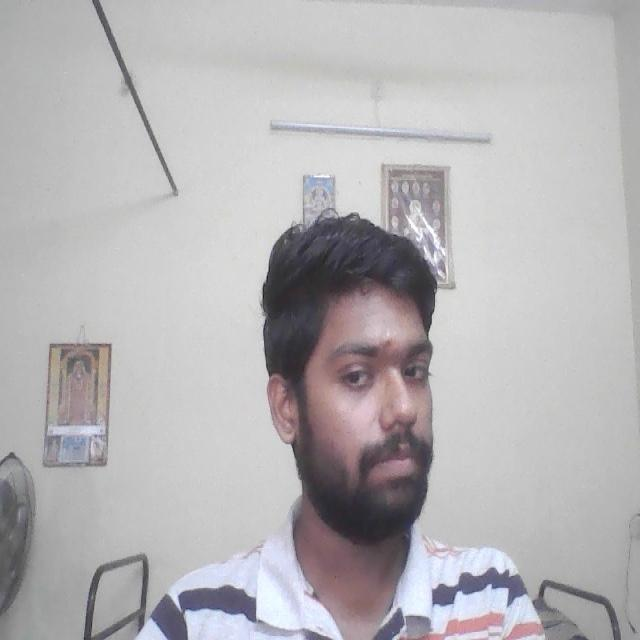Focused: (282, 295, 438, 512)
